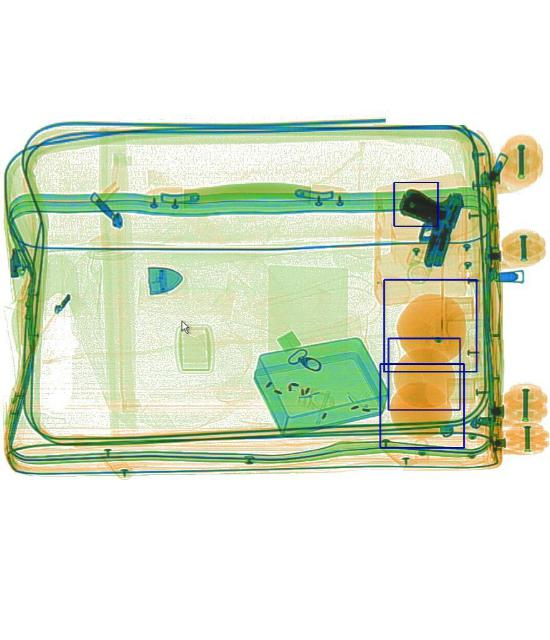Gun: (380, 176, 466, 274)
